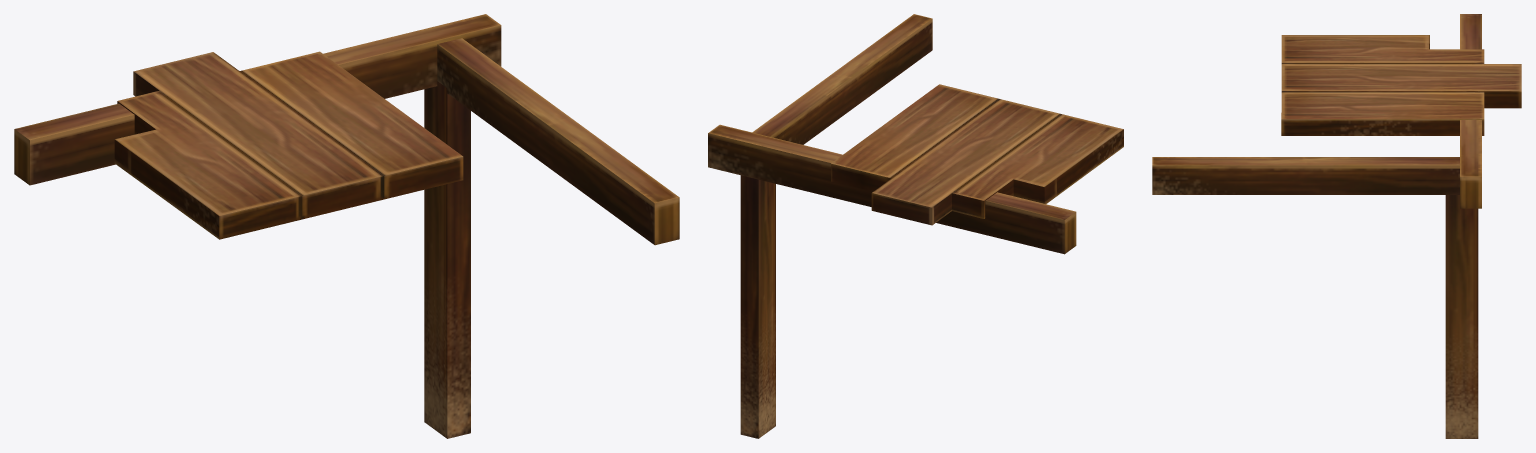
The model's file is tanwei06.FBX.
3 renders of one model, left to right at view 1: azimuth 30°, elevation 25°; view 2: azimuth 150°, elevation 25°; view 3: azimuth 270°, elevation 25°, orthographic. The views are drawn at different scales.
Parts seen in each view (by area): view 1: 对象055; view 2: 对象055; view 3: 对象055.
Boxes of the visible parts, x1=… form: 对象055: x1=14, y1=14, x2=679, y2=438; 对象055: x1=708, y1=14, x2=1123, y2=438; 对象055: x1=1152, y1=14, x2=1521, y2=438.
Bounding box in the file's own units: 205 × 162 × 196.
